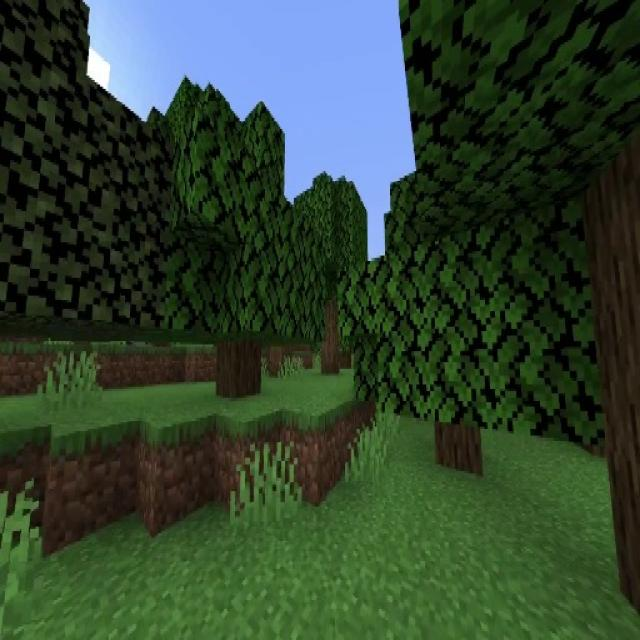oak: (358, 161, 571, 477), (142, 91, 309, 403), (290, 173, 369, 370)
oak_log: (435, 417, 482, 473), (217, 340, 260, 394), (323, 296, 338, 372), (270, 343, 288, 378)
